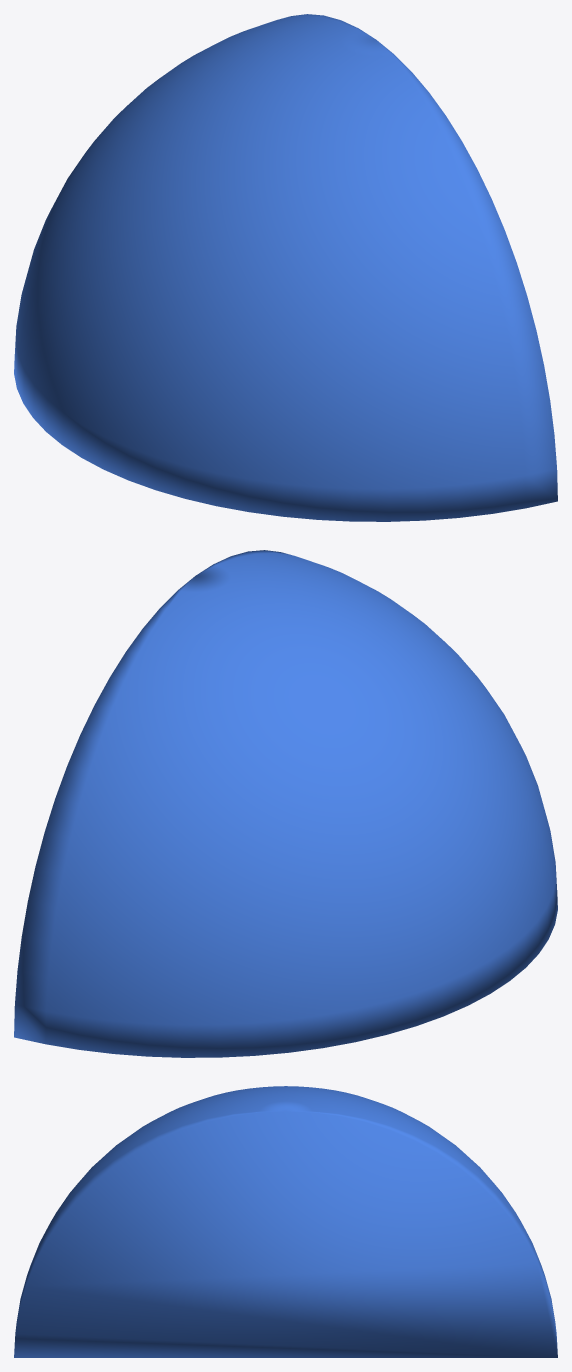
Rendered from qsphr.glb.
3 views of the same model, one above another, from view 1: azimuth 30°, elevation 25°; view 2: azimuth 150°, elevation 25°; view 3: azimuth 270°, elevation 25° (orthographic). The views are drawn at different scales.
Visible parts, largest first — view 1: qsphr; view 2: qsphr; view 3: qsphr.
Part boxes in pixels (<box>): qsphr: <box>14,14,557,521</box>; qsphr: <box>14,550,557,1057</box>; qsphr: <box>14,1086,557,1357</box>.
Bounding box in the file's own units: 1 × 1 × 2.
1 material, 1 textured.
